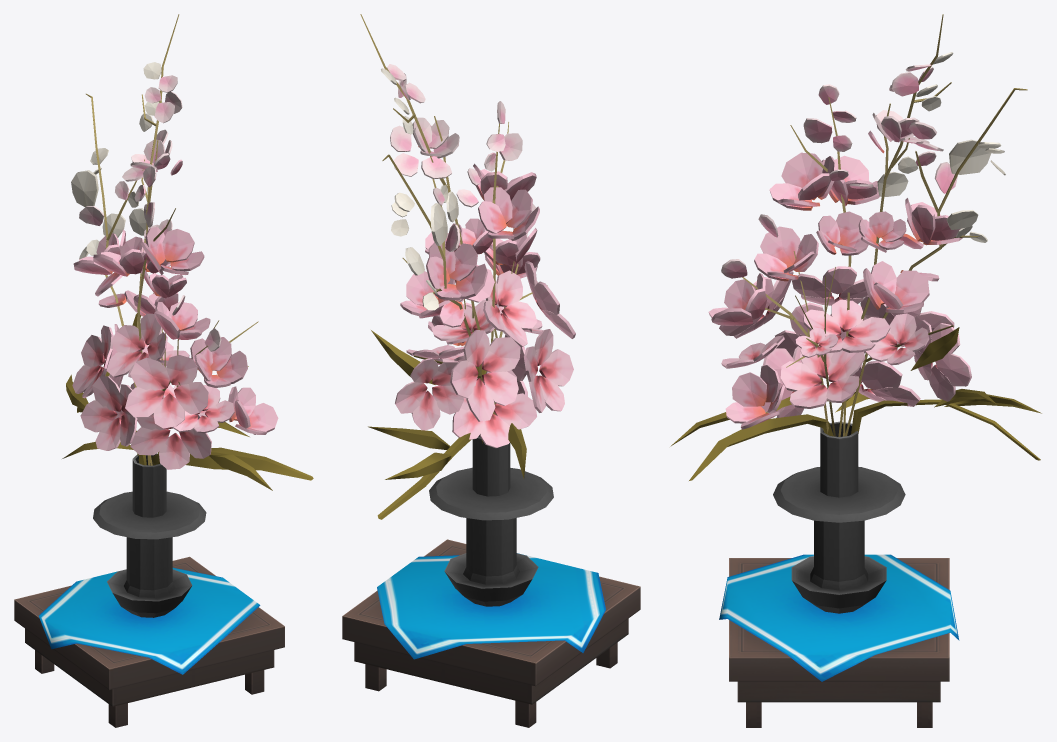
File: my_hotsprings_01_table_03.glb
3 renders of one model, left to right at view 1: azimuth 30°, elevation 25°; view 2: azimuth 150°, elevation 25°; view 3: azimuth 270°, elevation 25°, orthographic. The views are drawn at different scales.
Visible parts, largest first — view 1: my_hotsprings_01_table_03; view 2: my_hotsprings_01_table_03; view 3: my_hotsprings_01_table_03.
Part boxes in pixels (left/top/right/bottom): my_hotsprings_01_table_03: left=14, top=14, right=313, bottom=727; my_hotsprings_01_table_03: left=342, top=14, right=640, bottom=727; my_hotsprings_01_table_03: left=670, top=14, right=1041, bottom=727.
Bounding box in the file's own units: 0.00255 × 0.00787 × 0.00374.
1 material, 1 textured.
